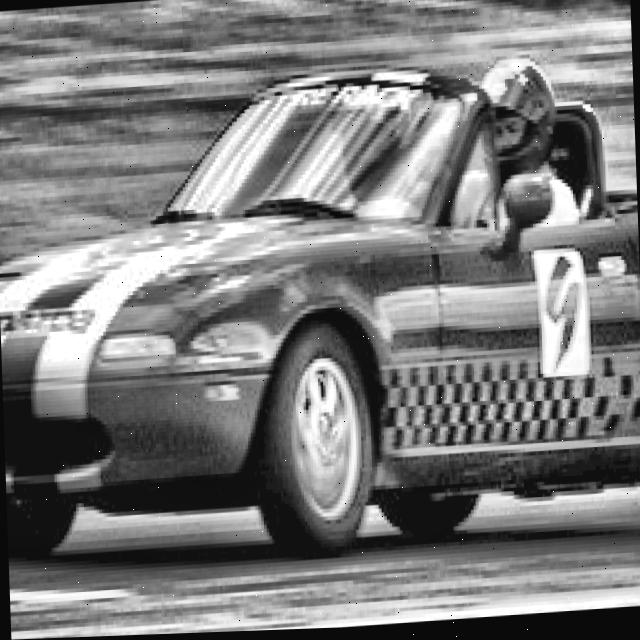light_vehicle: (0, 54, 640, 585)
